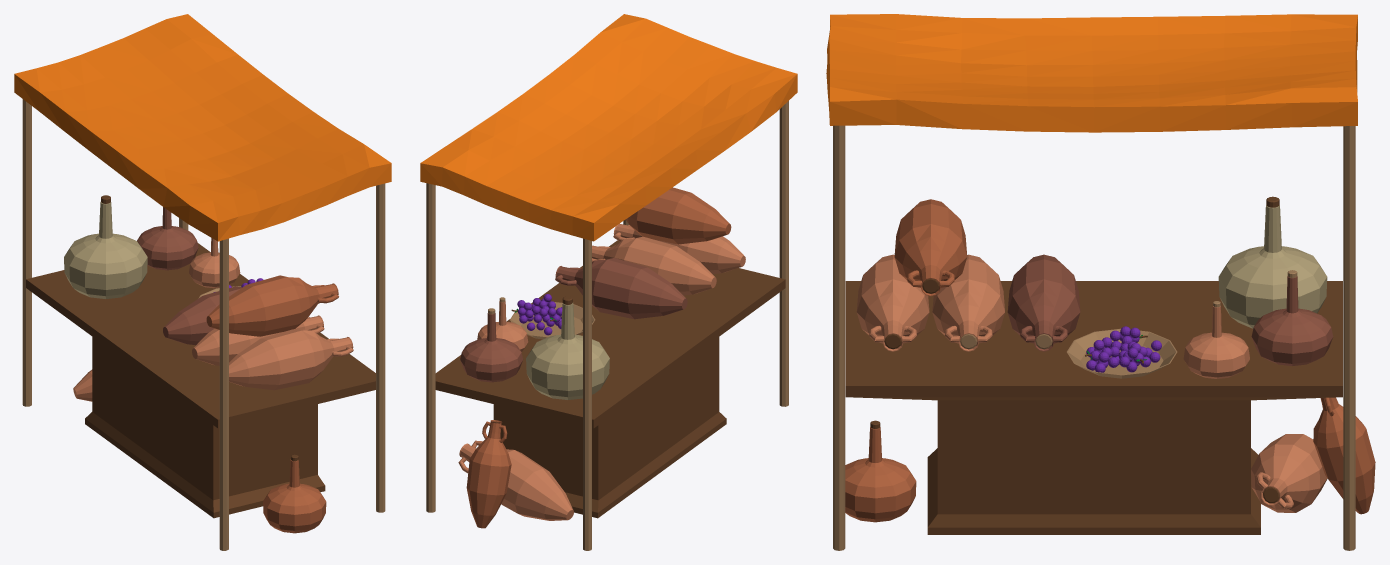
File: Weinstand.fbx
3 renders of one model, left to right at view 1: azimuth 30°, elevation 25°; view 2: azimuth 150°, elevation 25°; view 3: azimuth 270°, elevation 25°, orthographic. The views are drawn at different scales.
Visible parts, largest first — view 1: Weinstand; view 2: Weinstand; view 3: Weinstand.
Part boxes in pixels (x1,y1,x2,y2): Weinstand: (14,14,391,550); Weinstand: (420,14,797,550); Weinstand: (826,14,1375,550).
Bounding box in the file's own units: 431 × 816 × 883.
